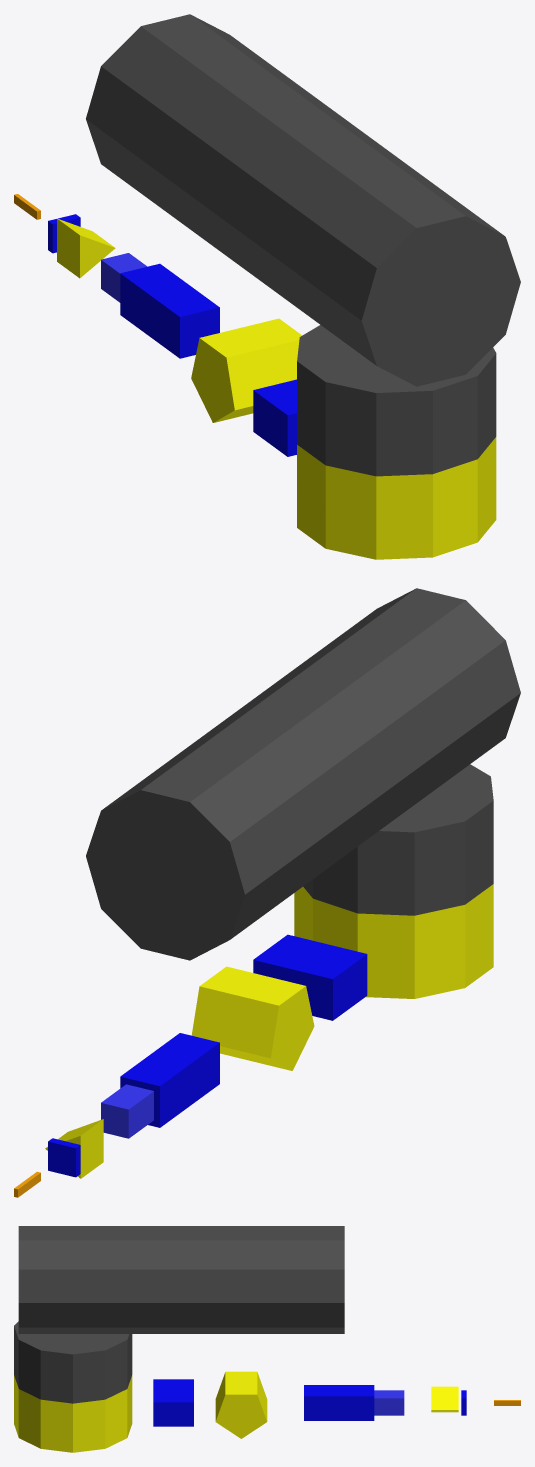
File: test2_rounded.dae
The picture shows the model from 3 angles, top to bottom: view 1: azimuth 30°, elevation 25°; view 2: azimuth 150°, elevation 25°; view 3: azimuth 270°, elevation 25°; orthographic projection. The views are drawn at different scales.
Visible parts, largest first — view 1: base_link, block_to_base, base_motor, lift_motor, extend_link1, swivel_link, wrist_motor, extend_link2; view 2: base_link, block_to_base, base_motor, lift_motor, swivel_link, extend_link1, extend_link2, wrist_motor, wrist_plate; view 3: base_link, block_to_base, base_motor, lift_motor, extend_link1, swivel_link, extend_link2, wrist_motor.
Boxes of the visible parts, box(x1,y1,x2,y2) form: base_link: box(86, 14, 520, 386); block_to_base: box(297, 325, 496, 476); base_motor: box(297, 437, 496, 559); lift_motor: box(191, 318, 301, 422); extend_link1: box(120, 263, 219, 358); swivel_link: box(253, 379, 296, 456); wrist_motor: box(57, 218, 115, 278); extend_link2: box(101, 253, 146, 302); base_link: box(86, 588, 520, 960); block_to_base: box(303, 764, 493, 915); base_motor: box(294, 884, 493, 998); lift_motor: box(191, 966, 314, 1070); swivel_link: box(253, 934, 367, 1020); extend_link1: box(120, 1033, 219, 1127); extend_link2: box(101, 1084, 153, 1138); wrist_motor: box(45, 1119, 103, 1178); wrist_plate: box(48, 1138, 80, 1177); base_link: box(18, 1226, 344, 1333); block_to_base: box(14, 1321, 132, 1403); base_motor: box(14, 1375, 132, 1452); lift_motor: box(215, 1371, 267, 1438); extend_link1: box(304, 1385, 374, 1420); swivel_link: box(153, 1379, 193, 1426); extend_link2: box(374, 1390, 404, 1415); wrist_motor: box(431, 1386, 458, 1412).
Size of what is drawn, in the model's own units: 0.2155 by 0.9339 by 0.3951.
